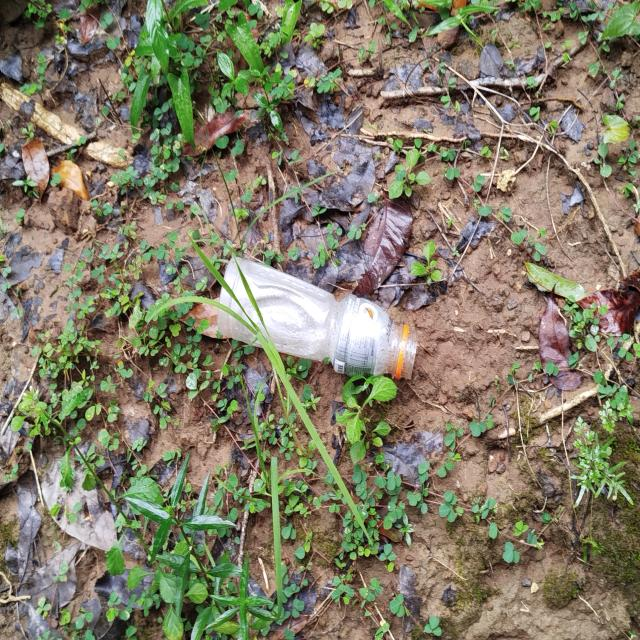plastic: (213, 243, 428, 396)
